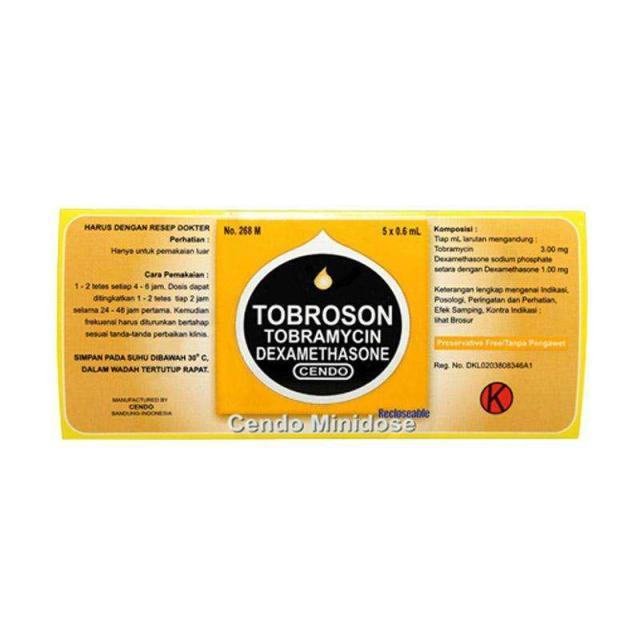drug-name: (253, 298, 393, 328)
